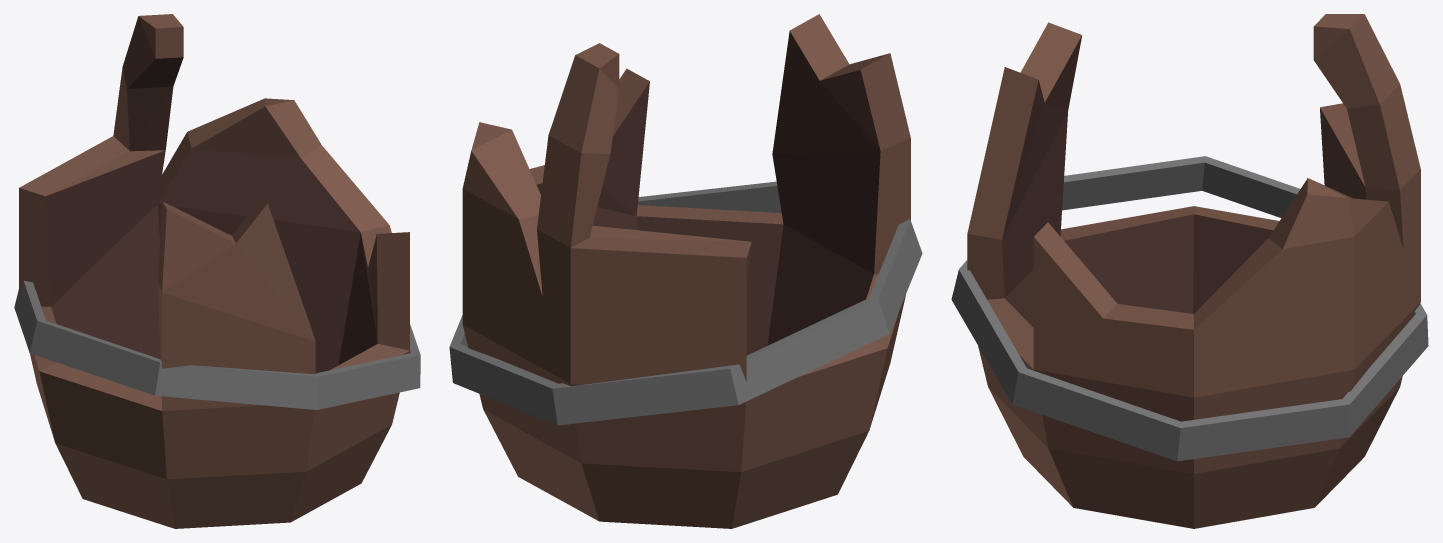
File: Ship_009.glb
3 views of the same model, side by side, from view 1: azimuth 30°, elevation 25°; view 2: azimuth 150°, elevation 25°; view 3: azimuth 270°, elevation 25° (orthographic). The views are drawn at different scales.
Visible parts, largest first — view 1: Ship_009; view 2: Ship_009; view 3: Ship_009.
Boxes of the visible parts, bbox=[...] form: Ship_009: bbox=[14, 14, 420, 528]; Ship_009: bbox=[449, 14, 922, 528]; Ship_009: bbox=[951, 14, 1428, 528].
Size of the model in its own units: 0.9104 by 0.9396 by 0.9173.
1 material, 1 textured.
